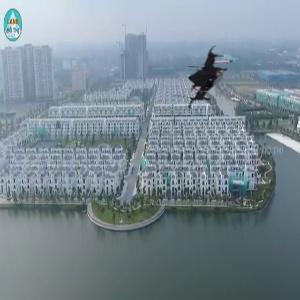drone: (169, 40, 246, 117)
